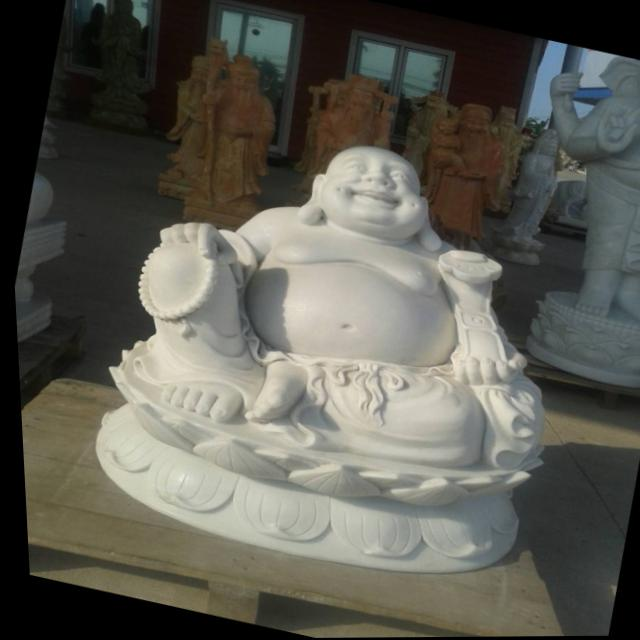Smiling Buddha: (84, 94, 554, 482)
